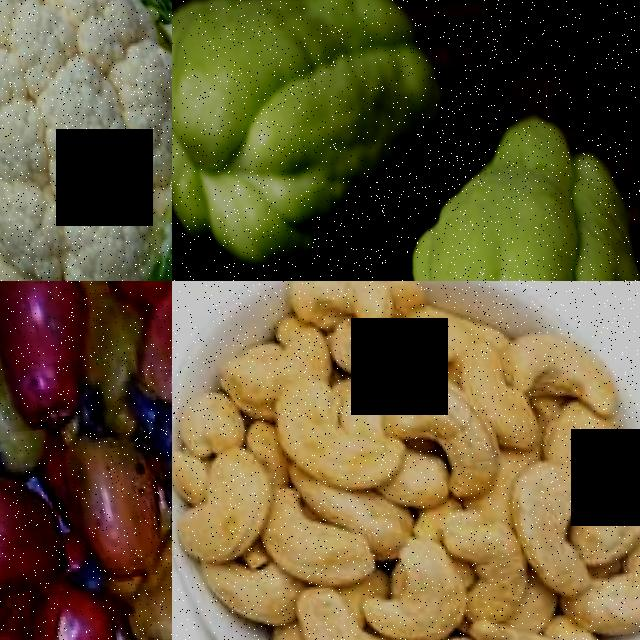cashew: (383, 340, 523, 514), (485, 427, 609, 599), (486, 281, 640, 392), (172, 428, 289, 558), (200, 293, 324, 414), (253, 370, 377, 489), (256, 477, 373, 588), (372, 523, 477, 640), (186, 541, 304, 640), (444, 491, 536, 608), (284, 567, 426, 640), (280, 281, 433, 328), (526, 386, 611, 465), (566, 463, 640, 545), (491, 599, 597, 640), (137, 394, 172, 461)
cauliflower: (0, 0, 172, 281)
chayote: (172, 0, 451, 229), (411, 78, 640, 281)
